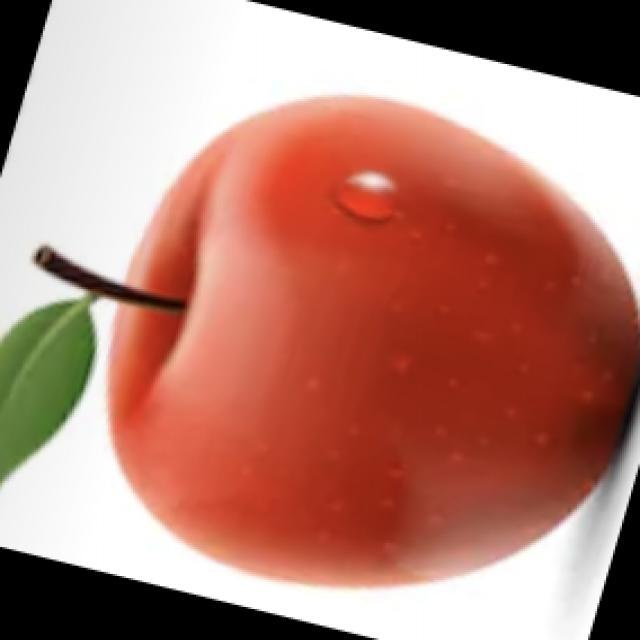Fresh Apple: (116, 105, 640, 571)
